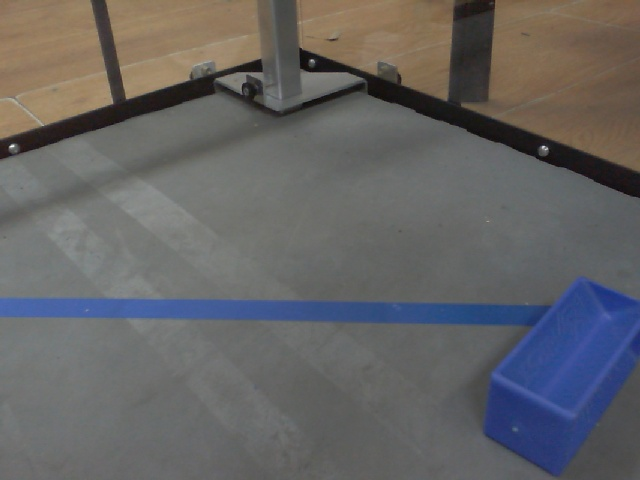BlueSample: (479, 274, 639, 477)
